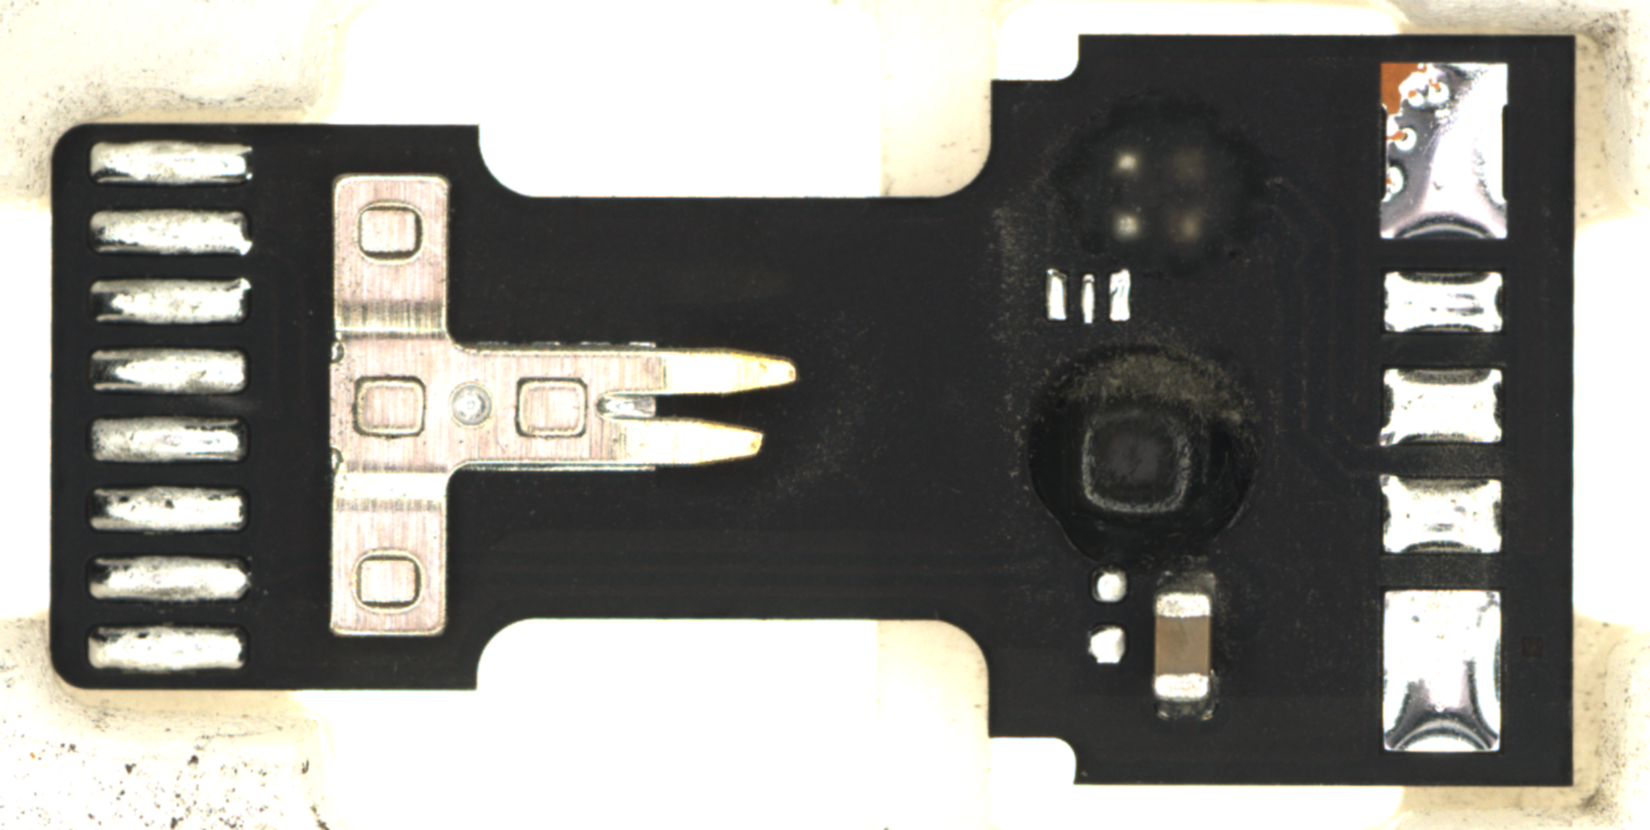d1_missing: (1037, 260, 1143, 329)
